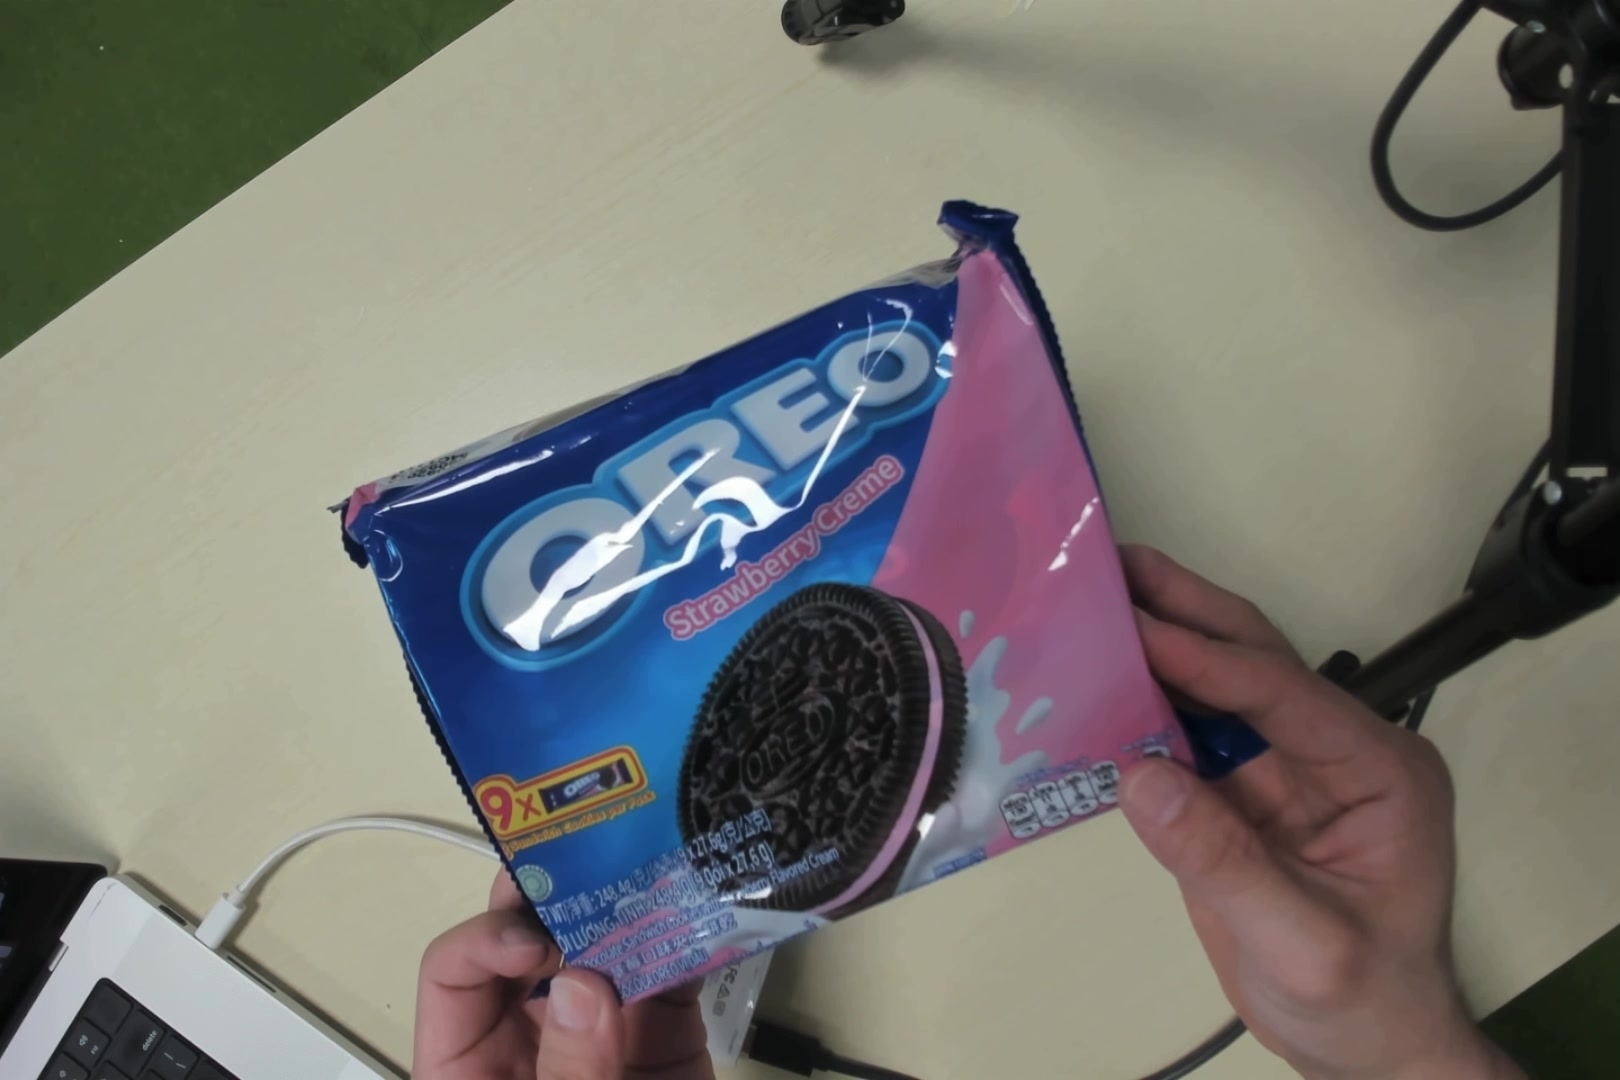SweetsChocolatesOthers_200-299g_Halal_NonHealthy: (411, 317, 1126, 910)
